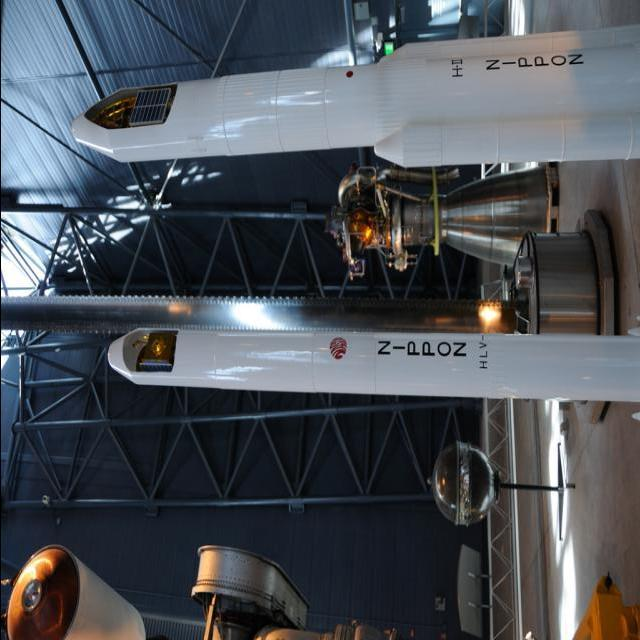missile: (98, 320, 640, 406), (60, 65, 372, 163), (366, 119, 640, 173)
